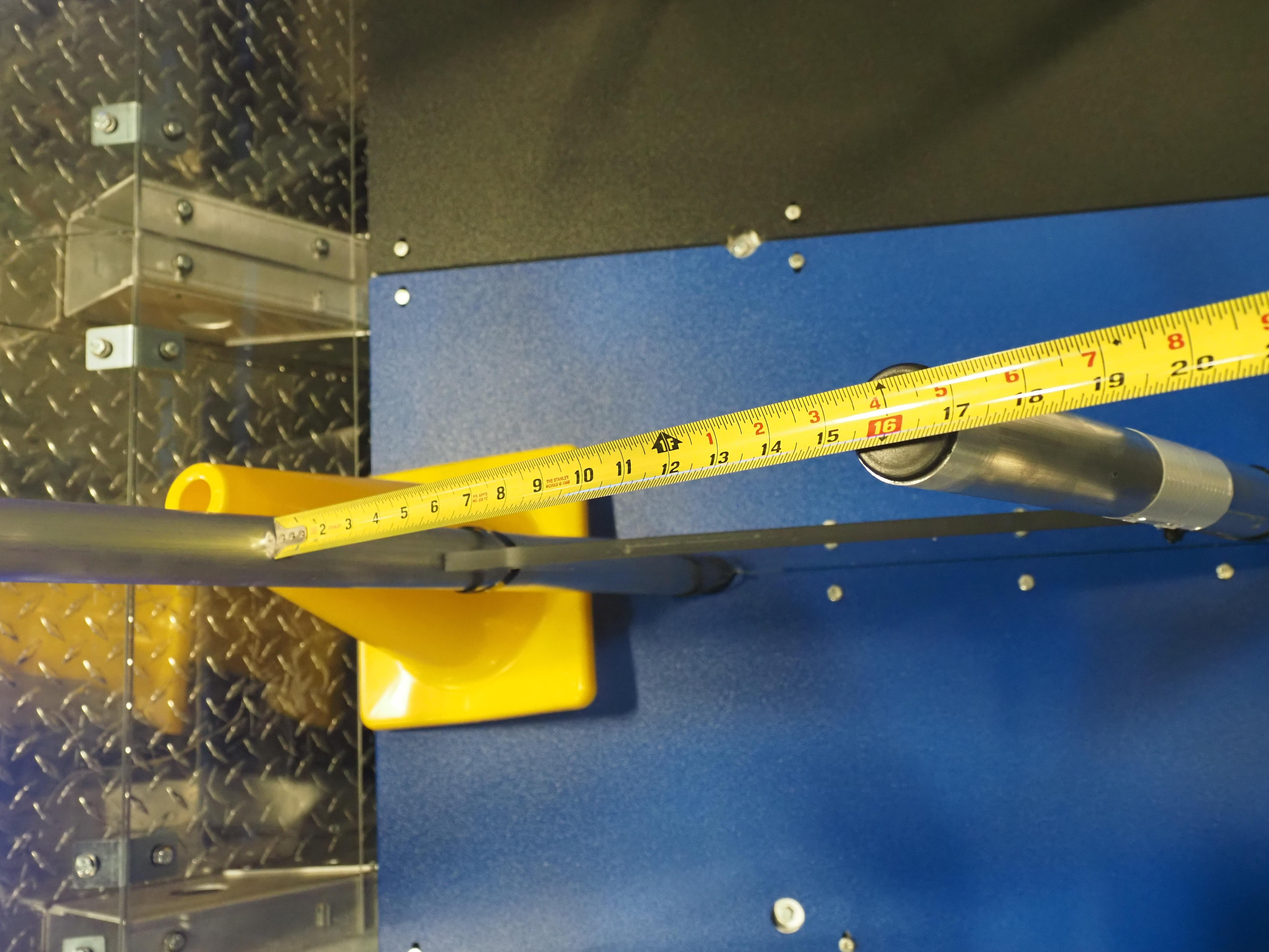cone: (287, 118, 698, 461)
